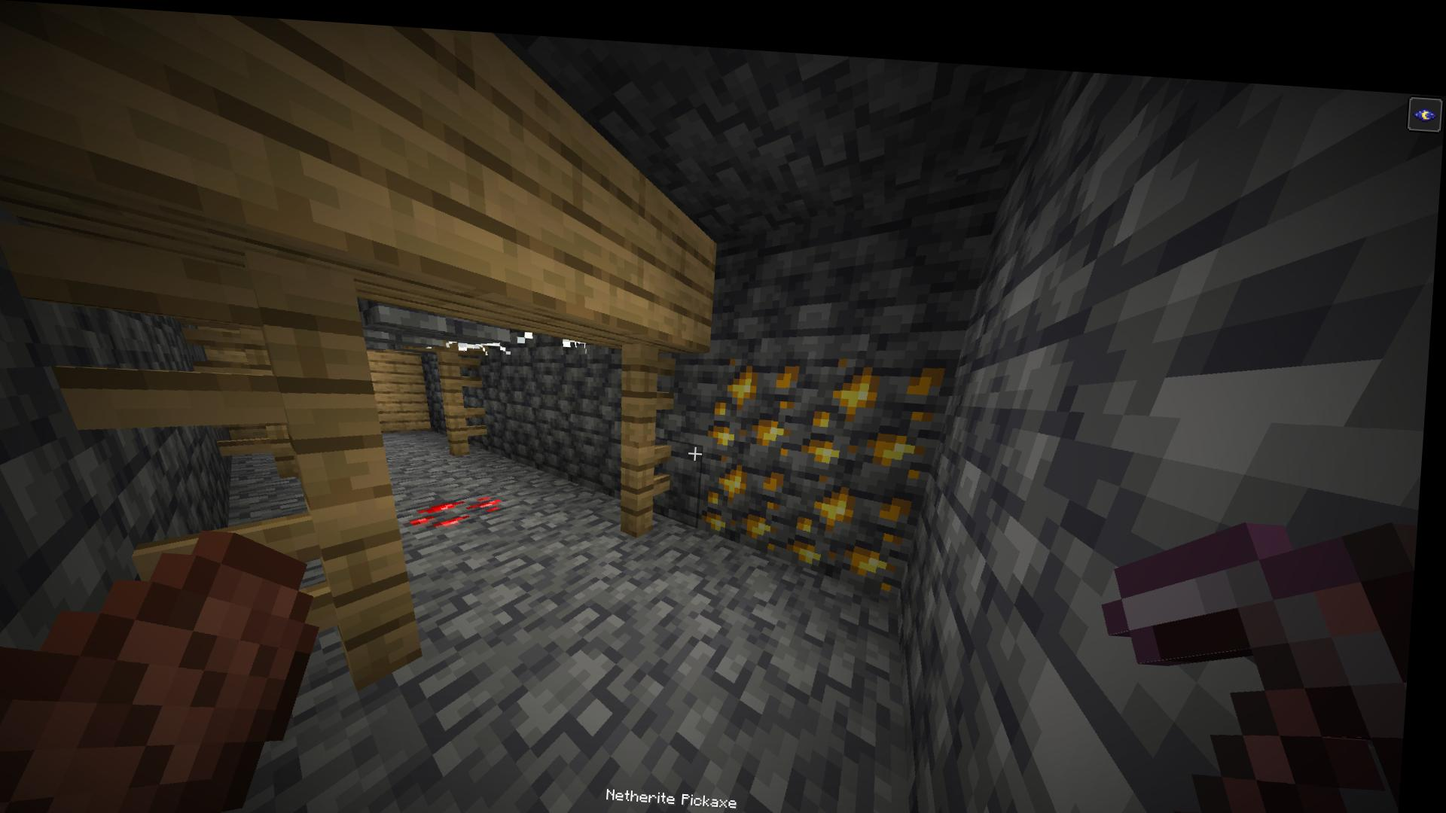gold ore: (807, 341, 946, 473), (788, 457, 922, 575), (709, 345, 806, 454), (702, 439, 792, 541)
redstone ore: (406, 481, 515, 532)
